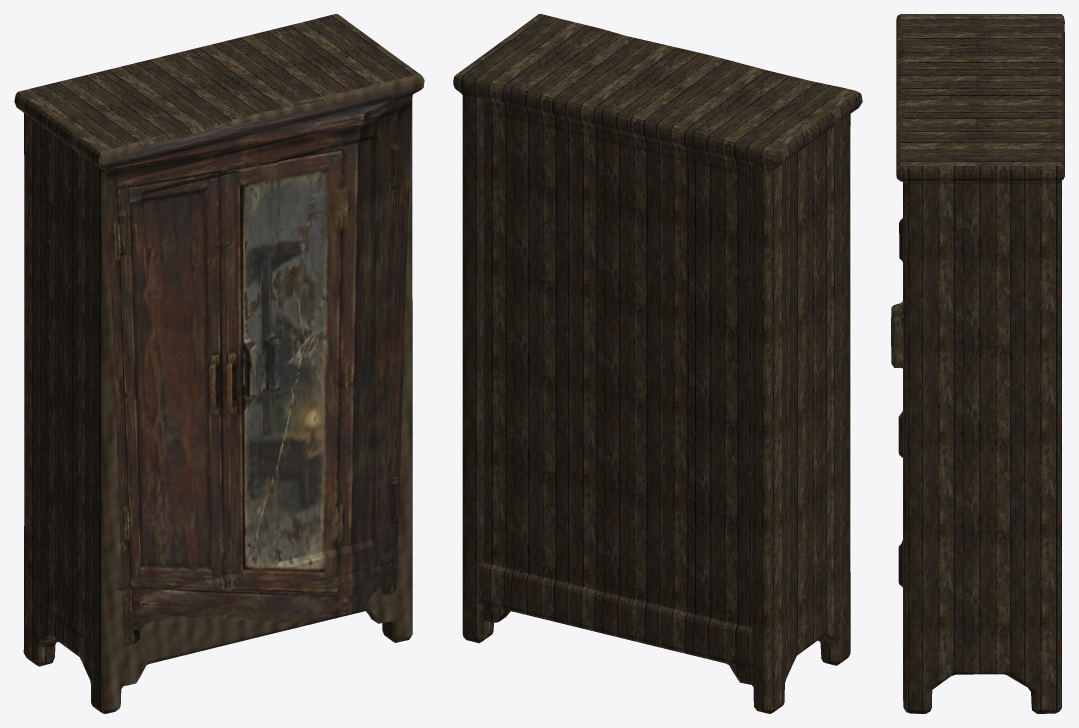
The model's file is wooden_wardrobe_reduced.glb.
The picture shows the model from 3 angles, left to right: view 1: azimuth 30°, elevation 25°; view 2: azimuth 150°, elevation 25°; view 3: azimuth 270°, elevation 25°; orthographic projection. The views are drawn at different scales.
Parts seen in each view (by area): view 1: FrontDoorDetail, WoodBackTopFeet; view 2: WoodBackTopFeet; view 3: WoodBackTopFeet, FrontDoorDetail.
Part boxes in pixels (x1,y1,x2,y2): FrontDoorDetail: (98,74,424,713); WoodBackTopFeet: (14,14,423,713); WoodBackTopFeet: (453,14,862,713); WoodBackTopFeet: (893,14,1064,713); FrontDoorDetail: (891,14,907,711).
Bounding box in the file's own units: 1.19 × 1.99 × 0.567.
2 materials, 2 textured.
